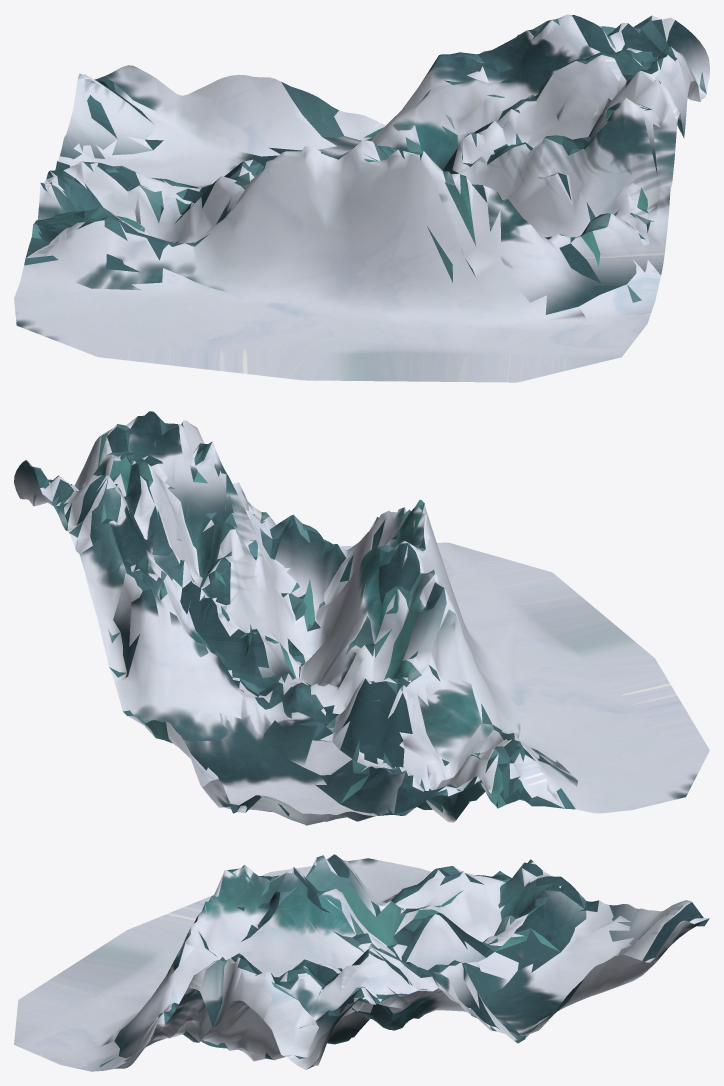
File: IceArena_SnowMountain.fbx
The picture shows the model from 3 angles, top to bottom: view 1: azimuth 30°, elevation 25°; view 2: azimuth 150°, elevation 25°; view 3: azimuth 270°, elevation 25°; orthographic projection. The views are drawn at different scales.
Parts seen in each view (by area): view 1: SnowMountain1.001; view 2: SnowMountain1.001; view 3: SnowMountain1.001.
Boxes of the visible parts, <box> form: SnowMountain1.001: <box>14,14,709,382</box>; SnowMountain1.001: <box>14,411,709,825</box>; SnowMountain1.001: <box>14,854,709,1071</box>.
Size of the model in its own units: 90664 by 25201 by 86948.
Materials: 1 (1 with a texture image).
